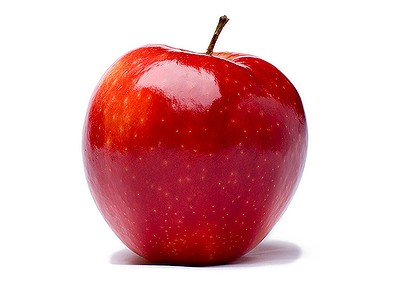apple: (72, 5, 311, 273)
